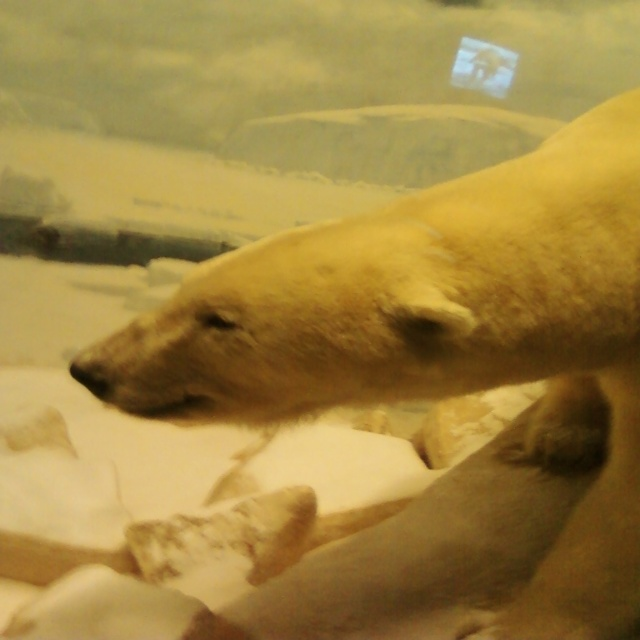Polar bear: (69, 85, 639, 640)
